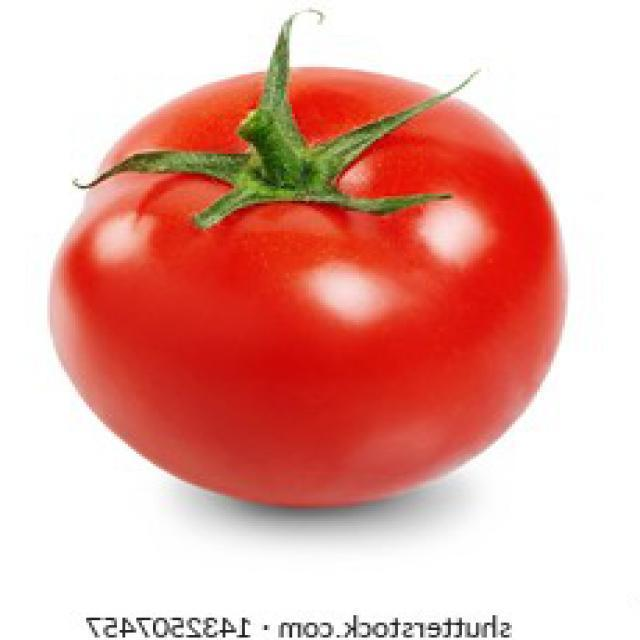Tomato: (46, 16, 569, 512)
